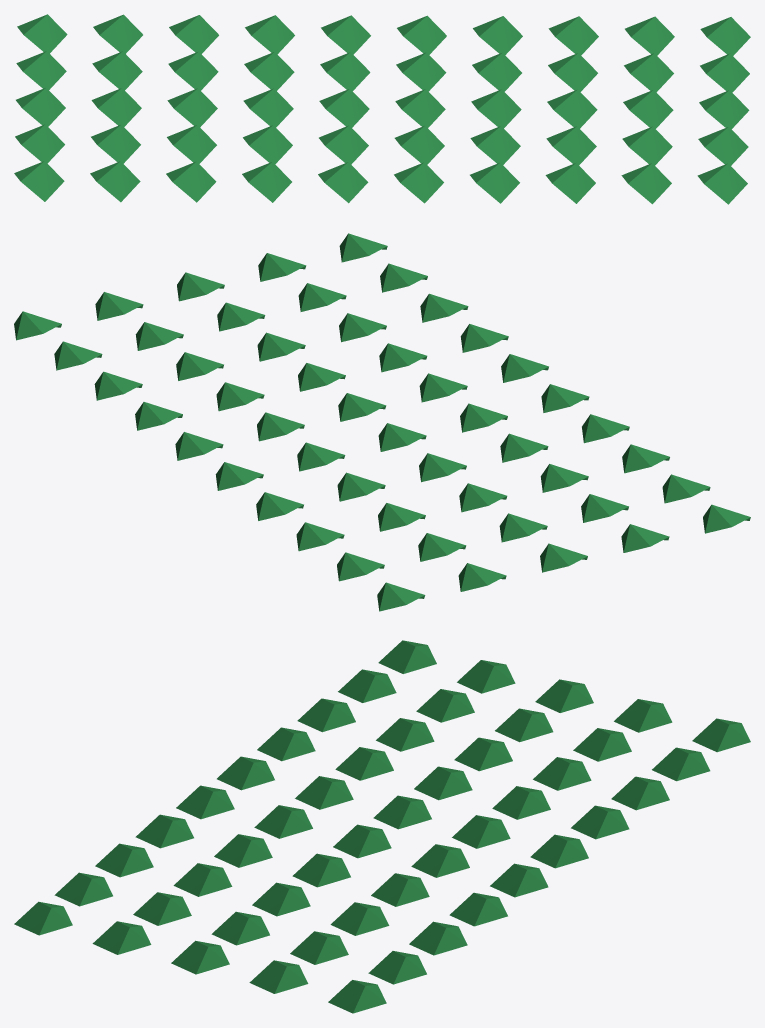
File: 012_すだち002.glb
The picture shows the model from 3 angles, top to bottom: view 1: azimuth 30°, elevation 25°; view 2: azimuth 150°, elevation 25°; view 3: azimuth 270°, elevation 25°; orthographic projection. The views are drawn at different scales.
Visible parts, largest first — view 1: すだち002; view 2: すだち002; view 3: すだち002.
Boxes of the visible parts, x1,y1,x2,y2 form: すだち002: (14, 14, 750, 204); すだち002: (14, 233, 750, 611); すだち002: (14, 640, 750, 1013).
Size of the model in its own units: 2.12 by 0.0689 by 1.82.
